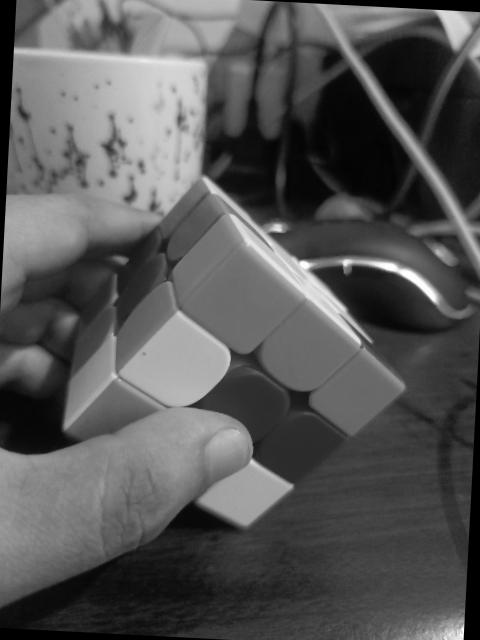rubik: (56, 167, 418, 538)
